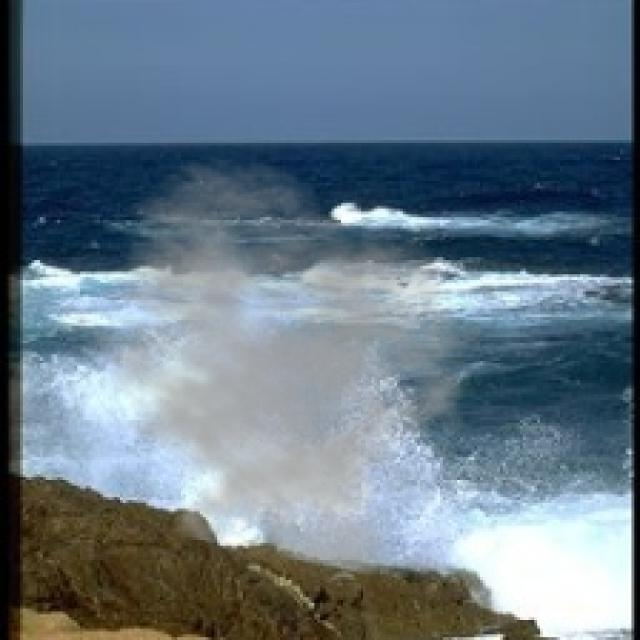smoke: (63, 154, 488, 577)
